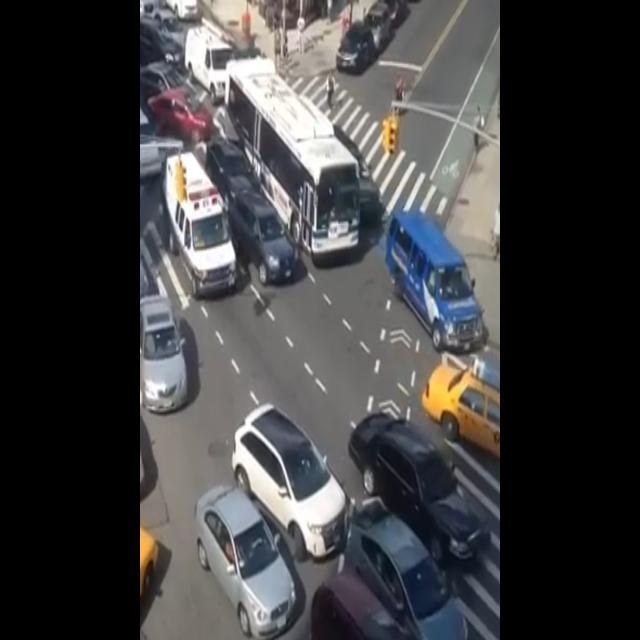Ambulance: (158, 140, 240, 302)
